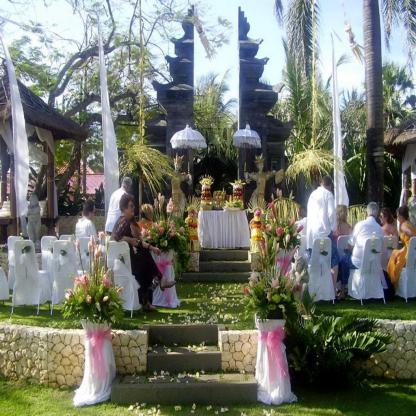face: (128, 201, 136, 216), (398, 212, 404, 225), (380, 213, 386, 225), (91, 206, 96, 220), (344, 210, 349, 222), (127, 183, 132, 194)
